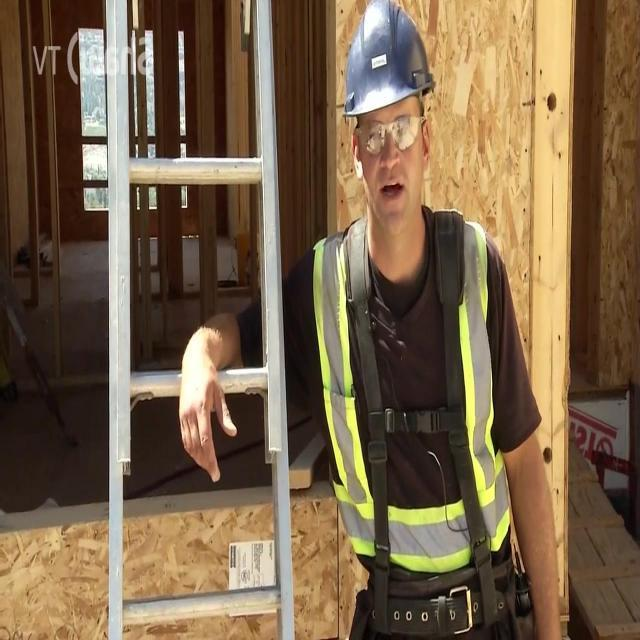reflective_jacket: (303, 211, 524, 594)
safety_helmet: (333, 0, 442, 130)
